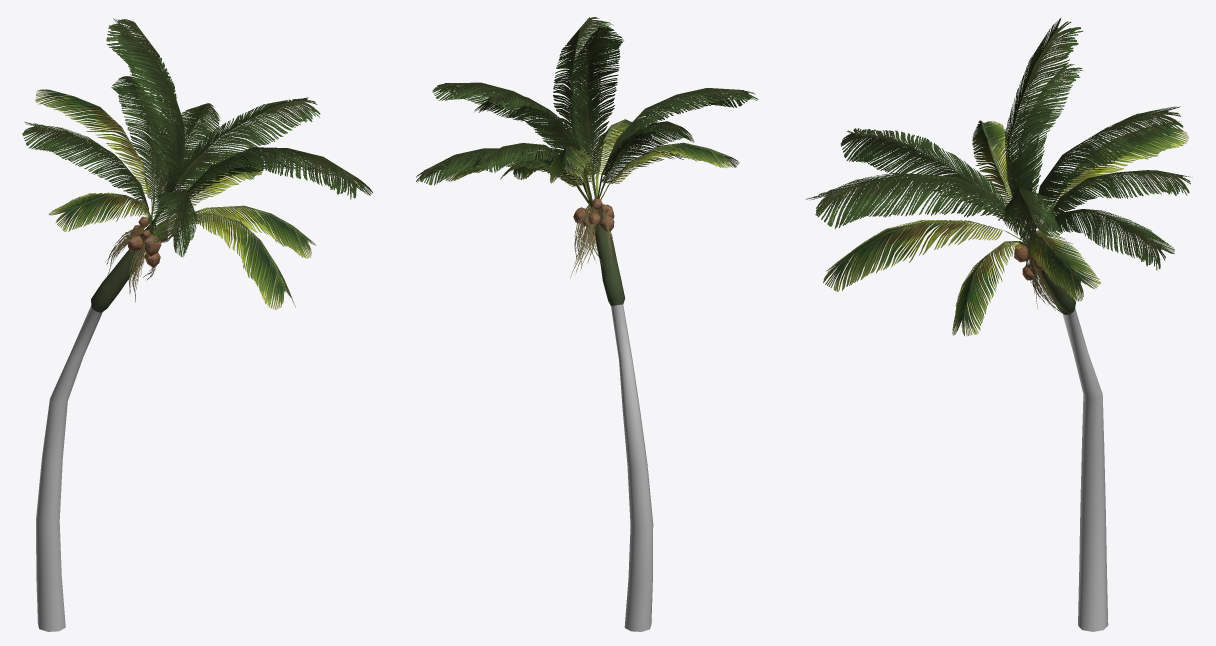
Rendered from kiV4_LOD0.fbx.
The picture shows the model from 3 angles, left to right: view 1: azimuth 30°, elevation 25°; view 2: azimuth 150°, elevation 25°; view 3: azimuth 270°, elevation 25°; orthographic projection. The views are drawn at different scales.
Parts seen in each view (by area): view 1: Mesh Object; view 2: Mesh Object; view 3: Mesh Object.
Boxes of the visible parts, left/top/right/bottom form: Mesh Object: left=22, top=18, right=372, bottom=631; Mesh Object: left=416, top=17, right=758, bottom=631; Mesh Object: left=805, top=18, right=1192, bottom=631.
Size of the model in its own units: 22.92 by 44.97 by 26.09.
